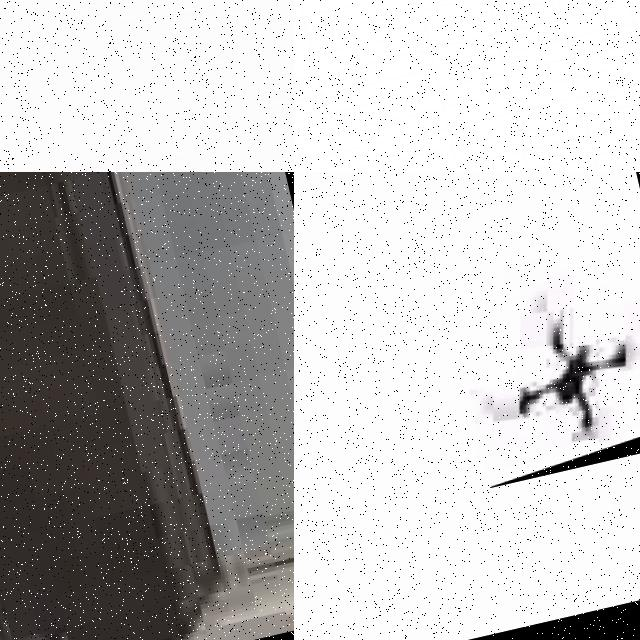0: (0, 0, 294, 172), (445, 247, 640, 487)
drone: (294, 116, 640, 172)
